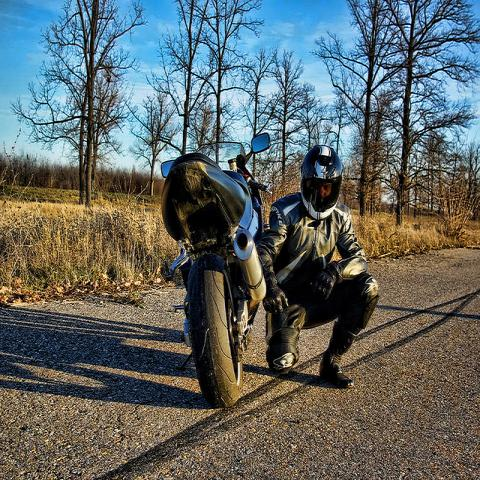motorcycle: (158, 133, 275, 408)
